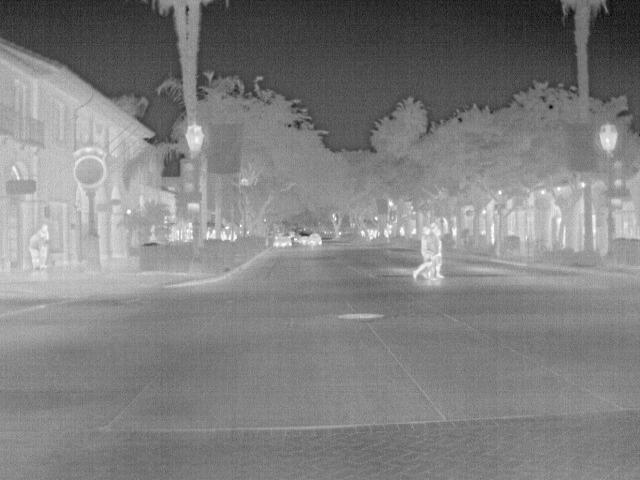car: (298, 228, 324, 246), (272, 230, 293, 248)
person: (413, 225, 432, 279), (28, 228, 49, 271), (429, 226, 445, 277)
